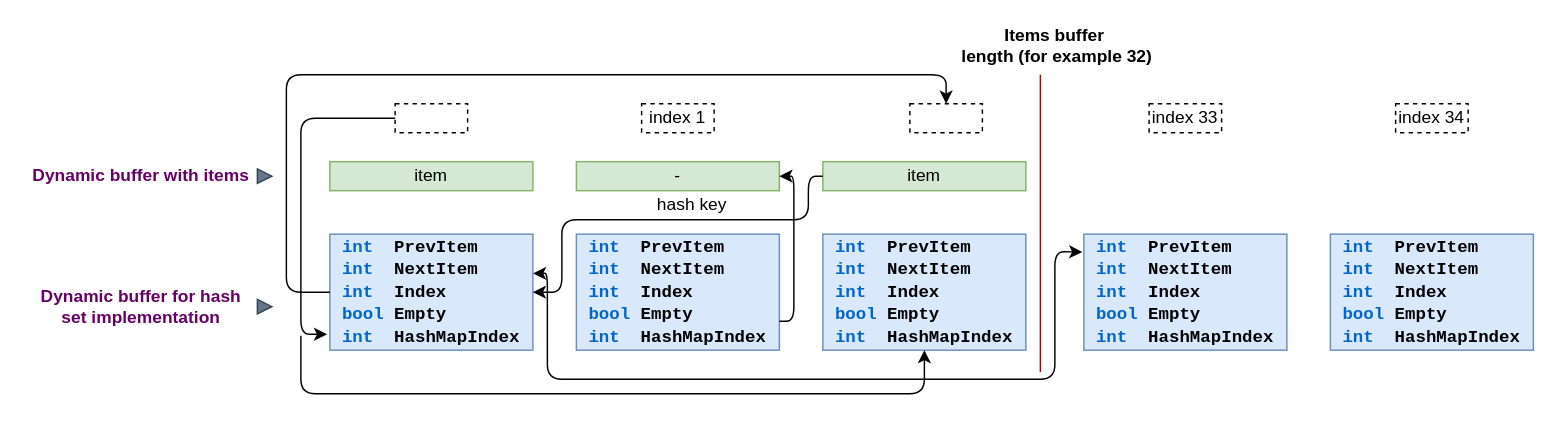
The diagram is 1559 pixels wide and 431 high, and some of its shapes have lost their labels. The centre of each missing label's shape, as x and y in pixels:
index 0: pixel 431 117
index 2: pixel 945 117
